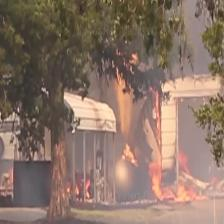fire: (64, 151, 224, 208)
